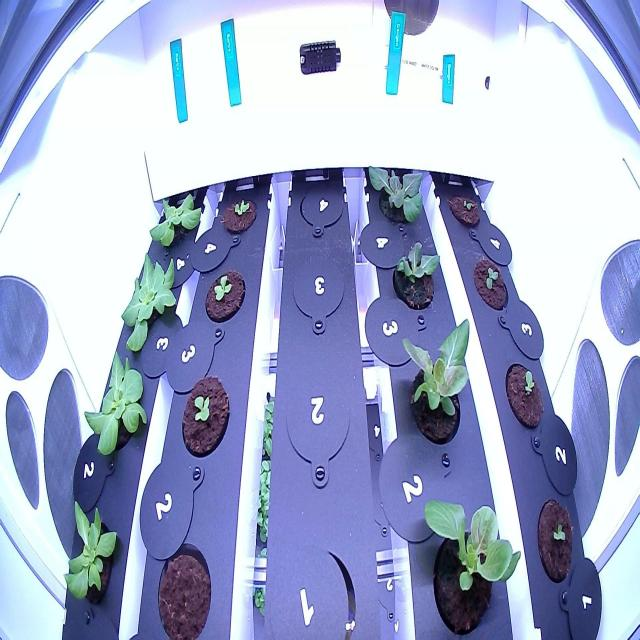empty_pod: (262, 532, 359, 639), (280, 364, 358, 494), (286, 245, 351, 342), (294, 172, 348, 241)
germination: (531, 492, 578, 588), (501, 350, 546, 434), (468, 250, 514, 316), (444, 182, 484, 234)
pod: (153, 537, 213, 639)
young: (412, 476, 526, 640), (397, 304, 478, 460), (78, 342, 152, 463), (60, 491, 122, 613), (119, 242, 182, 361), (359, 150, 432, 236), (175, 368, 233, 463), (385, 229, 444, 316), (146, 180, 205, 256), (198, 262, 247, 332), (218, 185, 258, 249)
